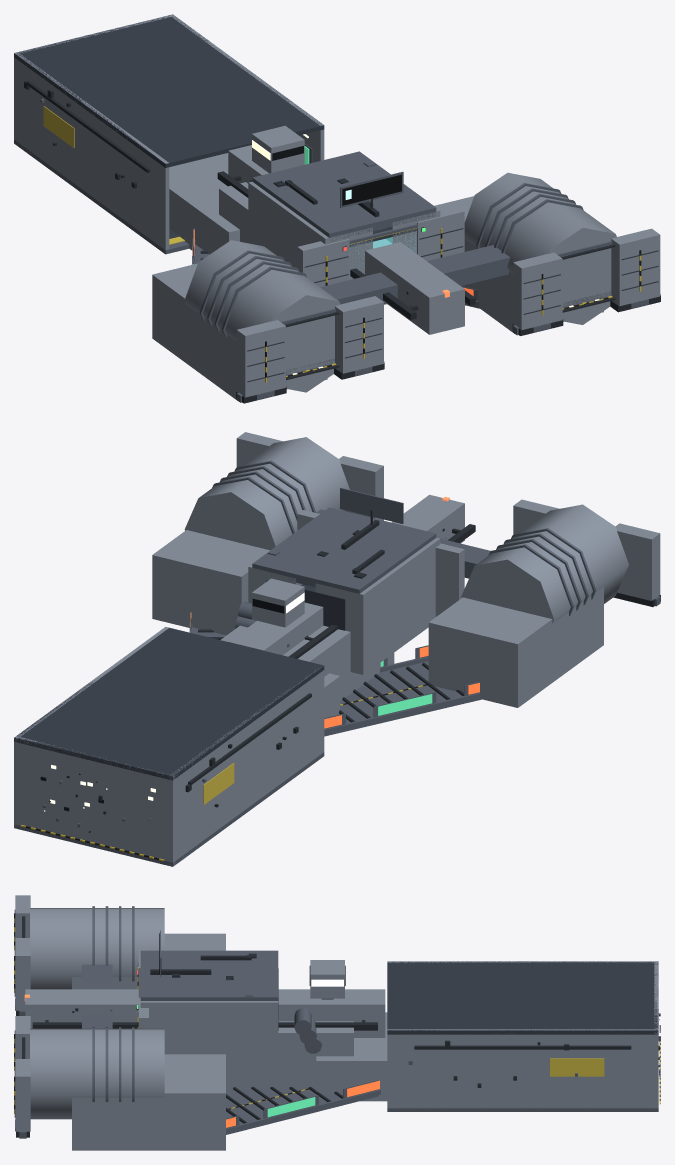
File: cradle-s.glb
3 renders of one model, top to bottom at view 1: azimuth 30°, elevation 25°; view 2: azimuth 150°, elevation 25°; view 3: azimuth 270°, elevation 25°, orthographic. The views are drawn at different scales.
Visible parts, largest first — view 1: hallRoof, hallWallL, lightTubeL, lightTubeR, transferLiftShaft (×3), hangarRoof, spine, hallApron, hangarShellL, berthSMRDoorHouseL, berthSMRDoorHouseR, berthSMLDoorHouseL (+13 smaller); view 2: transferLiftShaft (×3), hallRoof, hallBackWall, hallWallL, lightTubeL, lightTubeR, hangarRoof, hangarShellL, spine, transferMainBed, berthSMLDoorHouseL, berthLBlastHouseL (+15 smaller); view 3: hallRoof, hallWallR, transferLiftShaft (×3), lightTubeR, lightTubeL, hangarShellR, spine, hangarRoof, hallApron, transferMainBed, controlCab, berthSMRDoorHouseR (+14 smaller).
Boxes of the visible parts, x1,y1,x2,y2 form: hallRoof: [14, 15, 324, 167]; hallWallL: [14, 52, 169, 252]; lightTubeL: [184, 240, 340, 392]; lightTubeR: [464, 172, 616, 324]; transferLiftShaft (×3): [152, 182, 603, 400]; hangarRoof: [252, 151, 436, 240]; spine: [228, 145, 464, 334]; hallApron: [169, 153, 239, 254]; hangarShellL: [248, 181, 372, 279]; berthSMRDoorHouseL: [513, 252, 562, 329]; berthSMRDoorHouseR: [611, 228, 660, 306]; berthSMLDoorHouseL: [236, 320, 285, 397]; transferLiftShaft (×3): [152, 530, 603, 707]; hallRoof: [14, 627, 324, 780]; hallBackWall: [14, 736, 175, 866]; hallWallL: [169, 665, 324, 866]; lightTubeL: [461, 504, 628, 623]; lightTubeR: [184, 437, 349, 550]; hangarRoof: [252, 507, 436, 593]; hangarShellL: [315, 537, 440, 674]; spine: [228, 494, 464, 655]; transferMainBed: [324, 661, 481, 736]; berthSMLDoorHouseL: [615, 523, 660, 600]; berthLBlastHouseL: [435, 543, 464, 616]; hallRoof: [387, 961, 658, 1034]; hallWallR: [387, 1029, 658, 1109]; transferLiftShaft (×3): [72, 933, 353, 1150]; lightTubeR: [30, 1028, 164, 1119]; lightTubeL: [30, 908, 164, 989]; hangarShellR: [140, 1001, 278, 1074]; spine: [25, 989, 385, 1037]; hangarRoof: [140, 950, 278, 1000]; hallApron: [316, 1012, 387, 1101]; transferMainBed: [226, 1089, 378, 1134]; controlCab: [310, 960, 344, 998]; berthSMRDoorHouseR: [15, 1059, 30, 1131].
Size of the model in its own units: 42.59 by 14.37 by 63.49.
